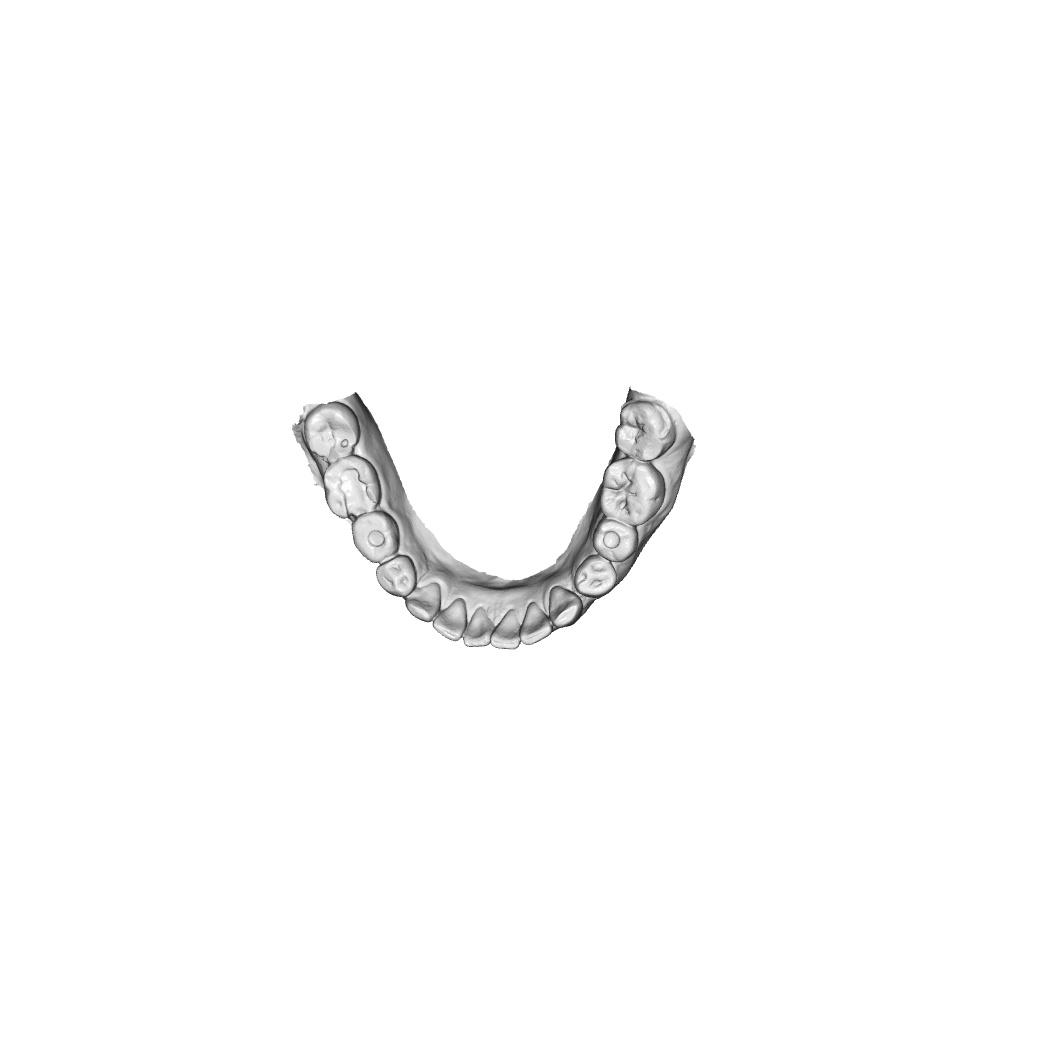canine: (548, 584, 584, 629), (404, 582, 442, 623)
incisor: (432, 597, 467, 642), (520, 601, 553, 646), (489, 608, 522, 650), (462, 606, 492, 648)
molar: (598, 457, 666, 527), (322, 453, 383, 520), (614, 400, 676, 462), (302, 401, 361, 464)
premolar: (351, 510, 401, 564), (592, 517, 639, 563), (573, 554, 618, 598), (375, 553, 417, 598)
